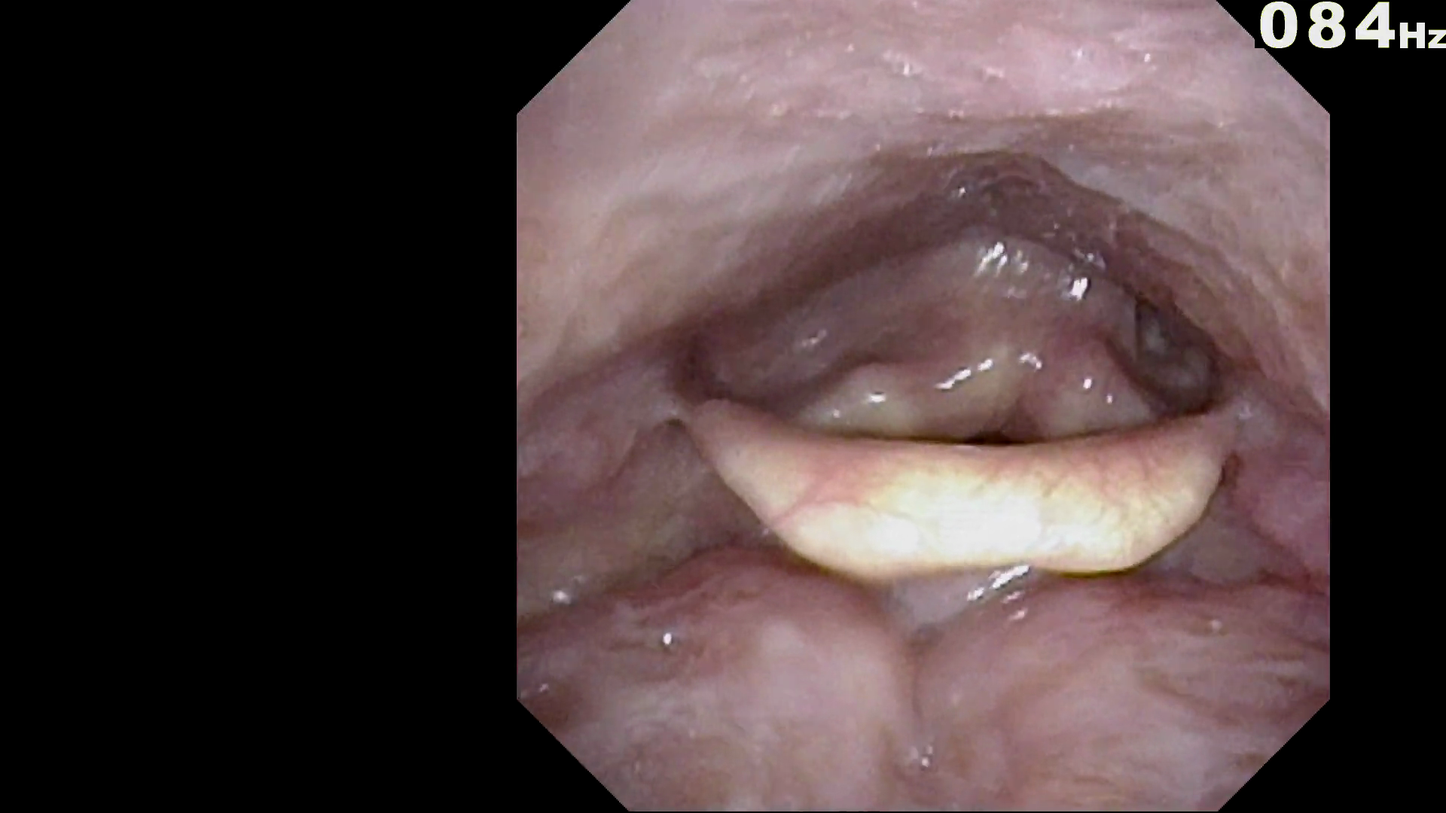epiglottis: (668, 333, 1265, 628)
trachea: (948, 382, 1033, 474)
